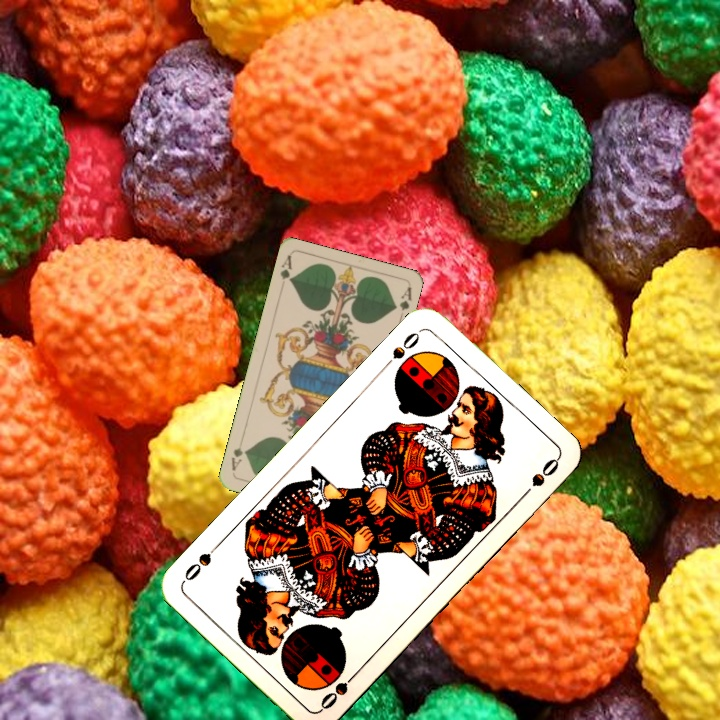GA: (276, 252, 295, 284)
SO: (316, 666, 362, 713), (378, 326, 424, 372)
